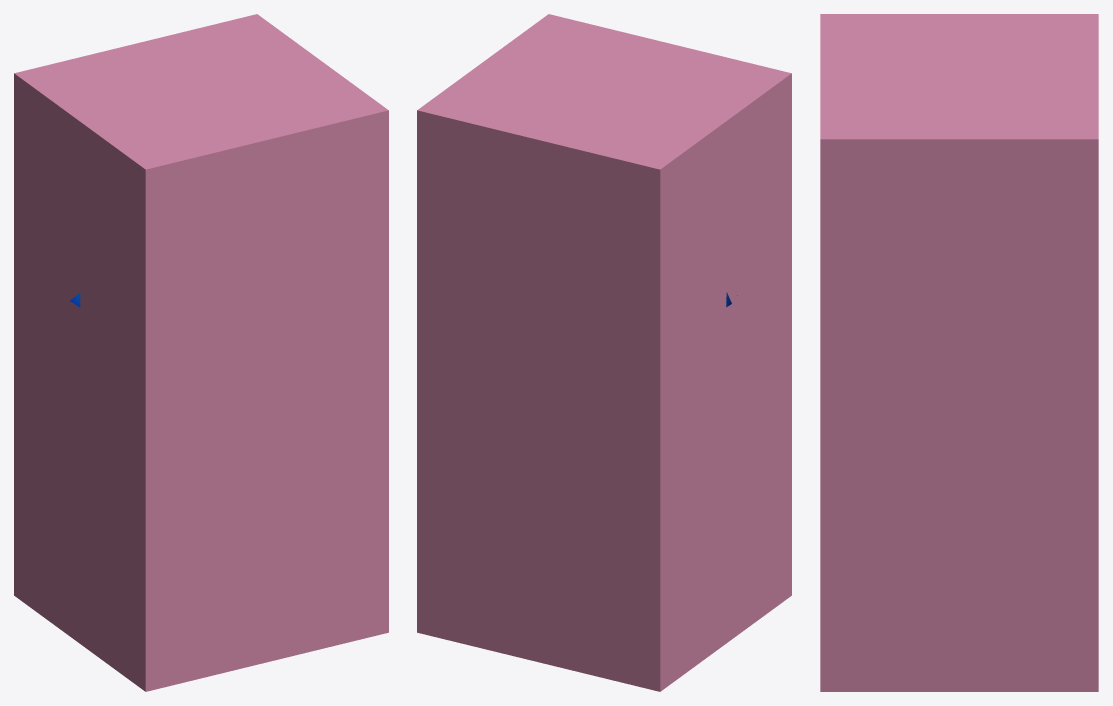
File: tree_beech_small_d.dae
3 renders of one model, left to right at view 1: azimuth 30°, elevation 25°; view 2: azimuth 150°, elevation 25°; view 3: azimuth 270°, elevation 25°, orthographic. The views are drawn at different scales.
Parts seen in each view (by area): view 1: Untitled; view 2: Untitled; view 3: Untitled.
Boxes of the visible parts, bbox=[...] form: Untitled: bbox=[14, 14, 388, 691]; Untitled: bbox=[417, 14, 791, 691]; Untitled: bbox=[820, 14, 1098, 691].
Bounding box in the file's own units: 5.75 × 5.17 × 11.34.
